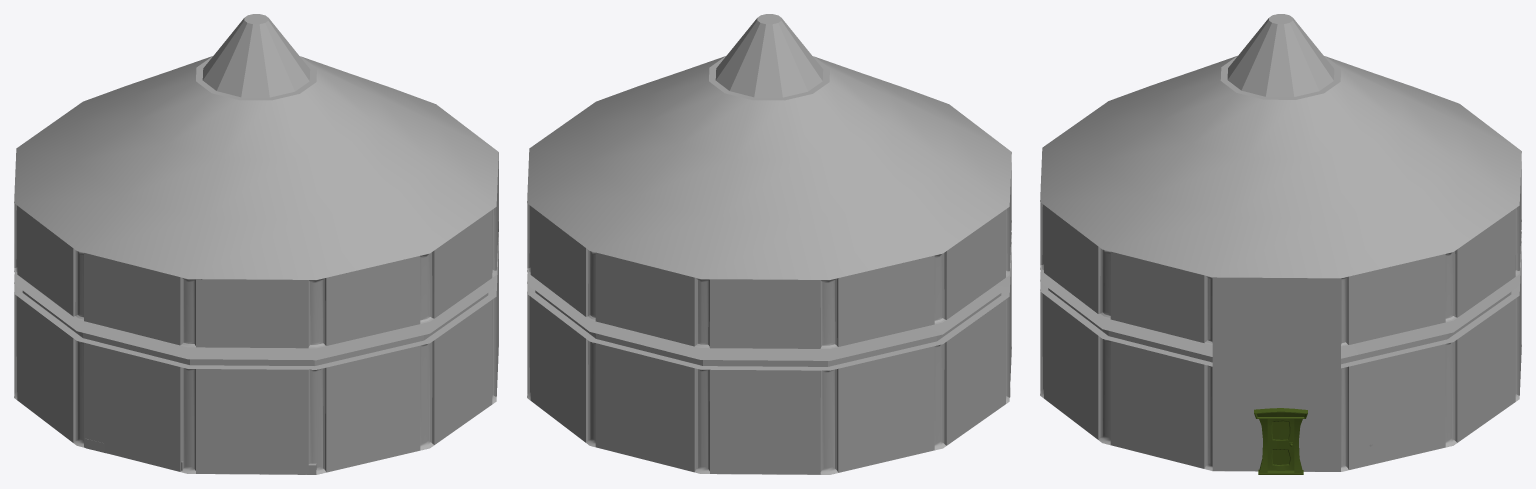
File: unwrapped everything.fbx
The picture shows the model from 3 angles, left to right: view 1: azimuth 30°, elevation 25°; view 2: azimuth 150°, elevation 25°; view 3: azimuth 270°, elevation 25°; orthographic projection.
Visible parts, largest first — view 1: GreenhouseStructure; view 2: GreenhouseStructure; view 3: GreenhouseStructure, Door2, polySurface4.
Part boxes in pixels (<box>): GreenhouseStructure: <box>14,14,498,474</box>; GreenhouseStructure: <box>527,14,1011,474</box>; GreenhouseStructure: <box>1040,14,1521,471</box>; Door2: <box>1267,419,1294,470</box>; polySurface4: <box>1254,408,1307,474</box>.
Size of the model in its own units: 54.34 by 43.39 by 53.49.
